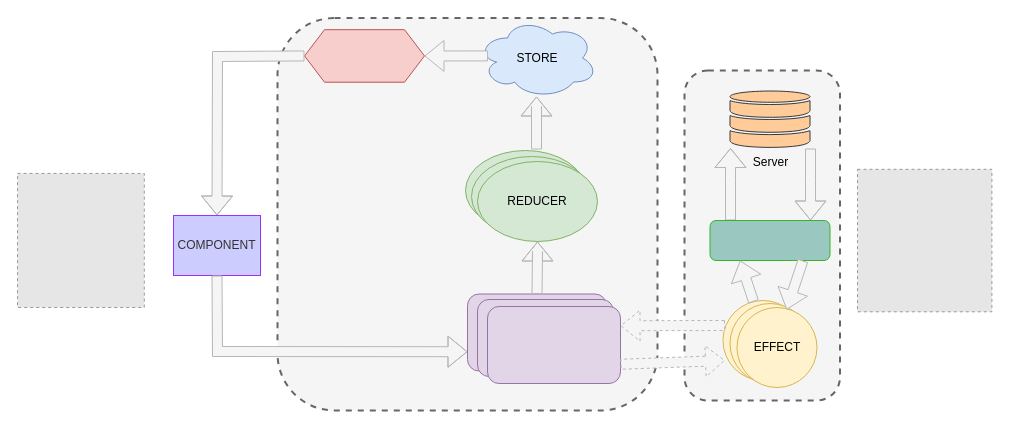
The diagram is 1010 pixels wide and 429 high, and some of its shapes have lost their labels. Grey dashed boxes stand in for pictures. The box of each missing label's shape, as (x1, y1, x2, y2) in pixels:
ACTION: (486, 306, 620, 384)
SELECTOR: (304, 29, 424, 82)
SERVICE: (709, 220, 830, 260)
